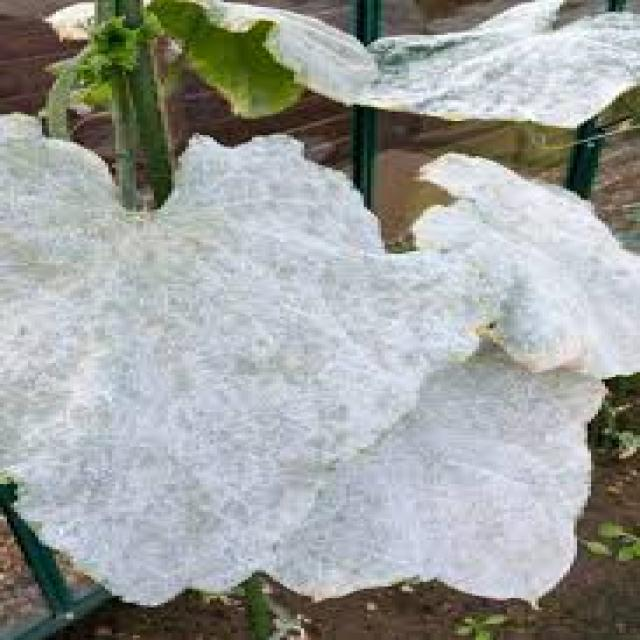powdery-mildew: (0, 135, 620, 585), (192, 0, 640, 114)
